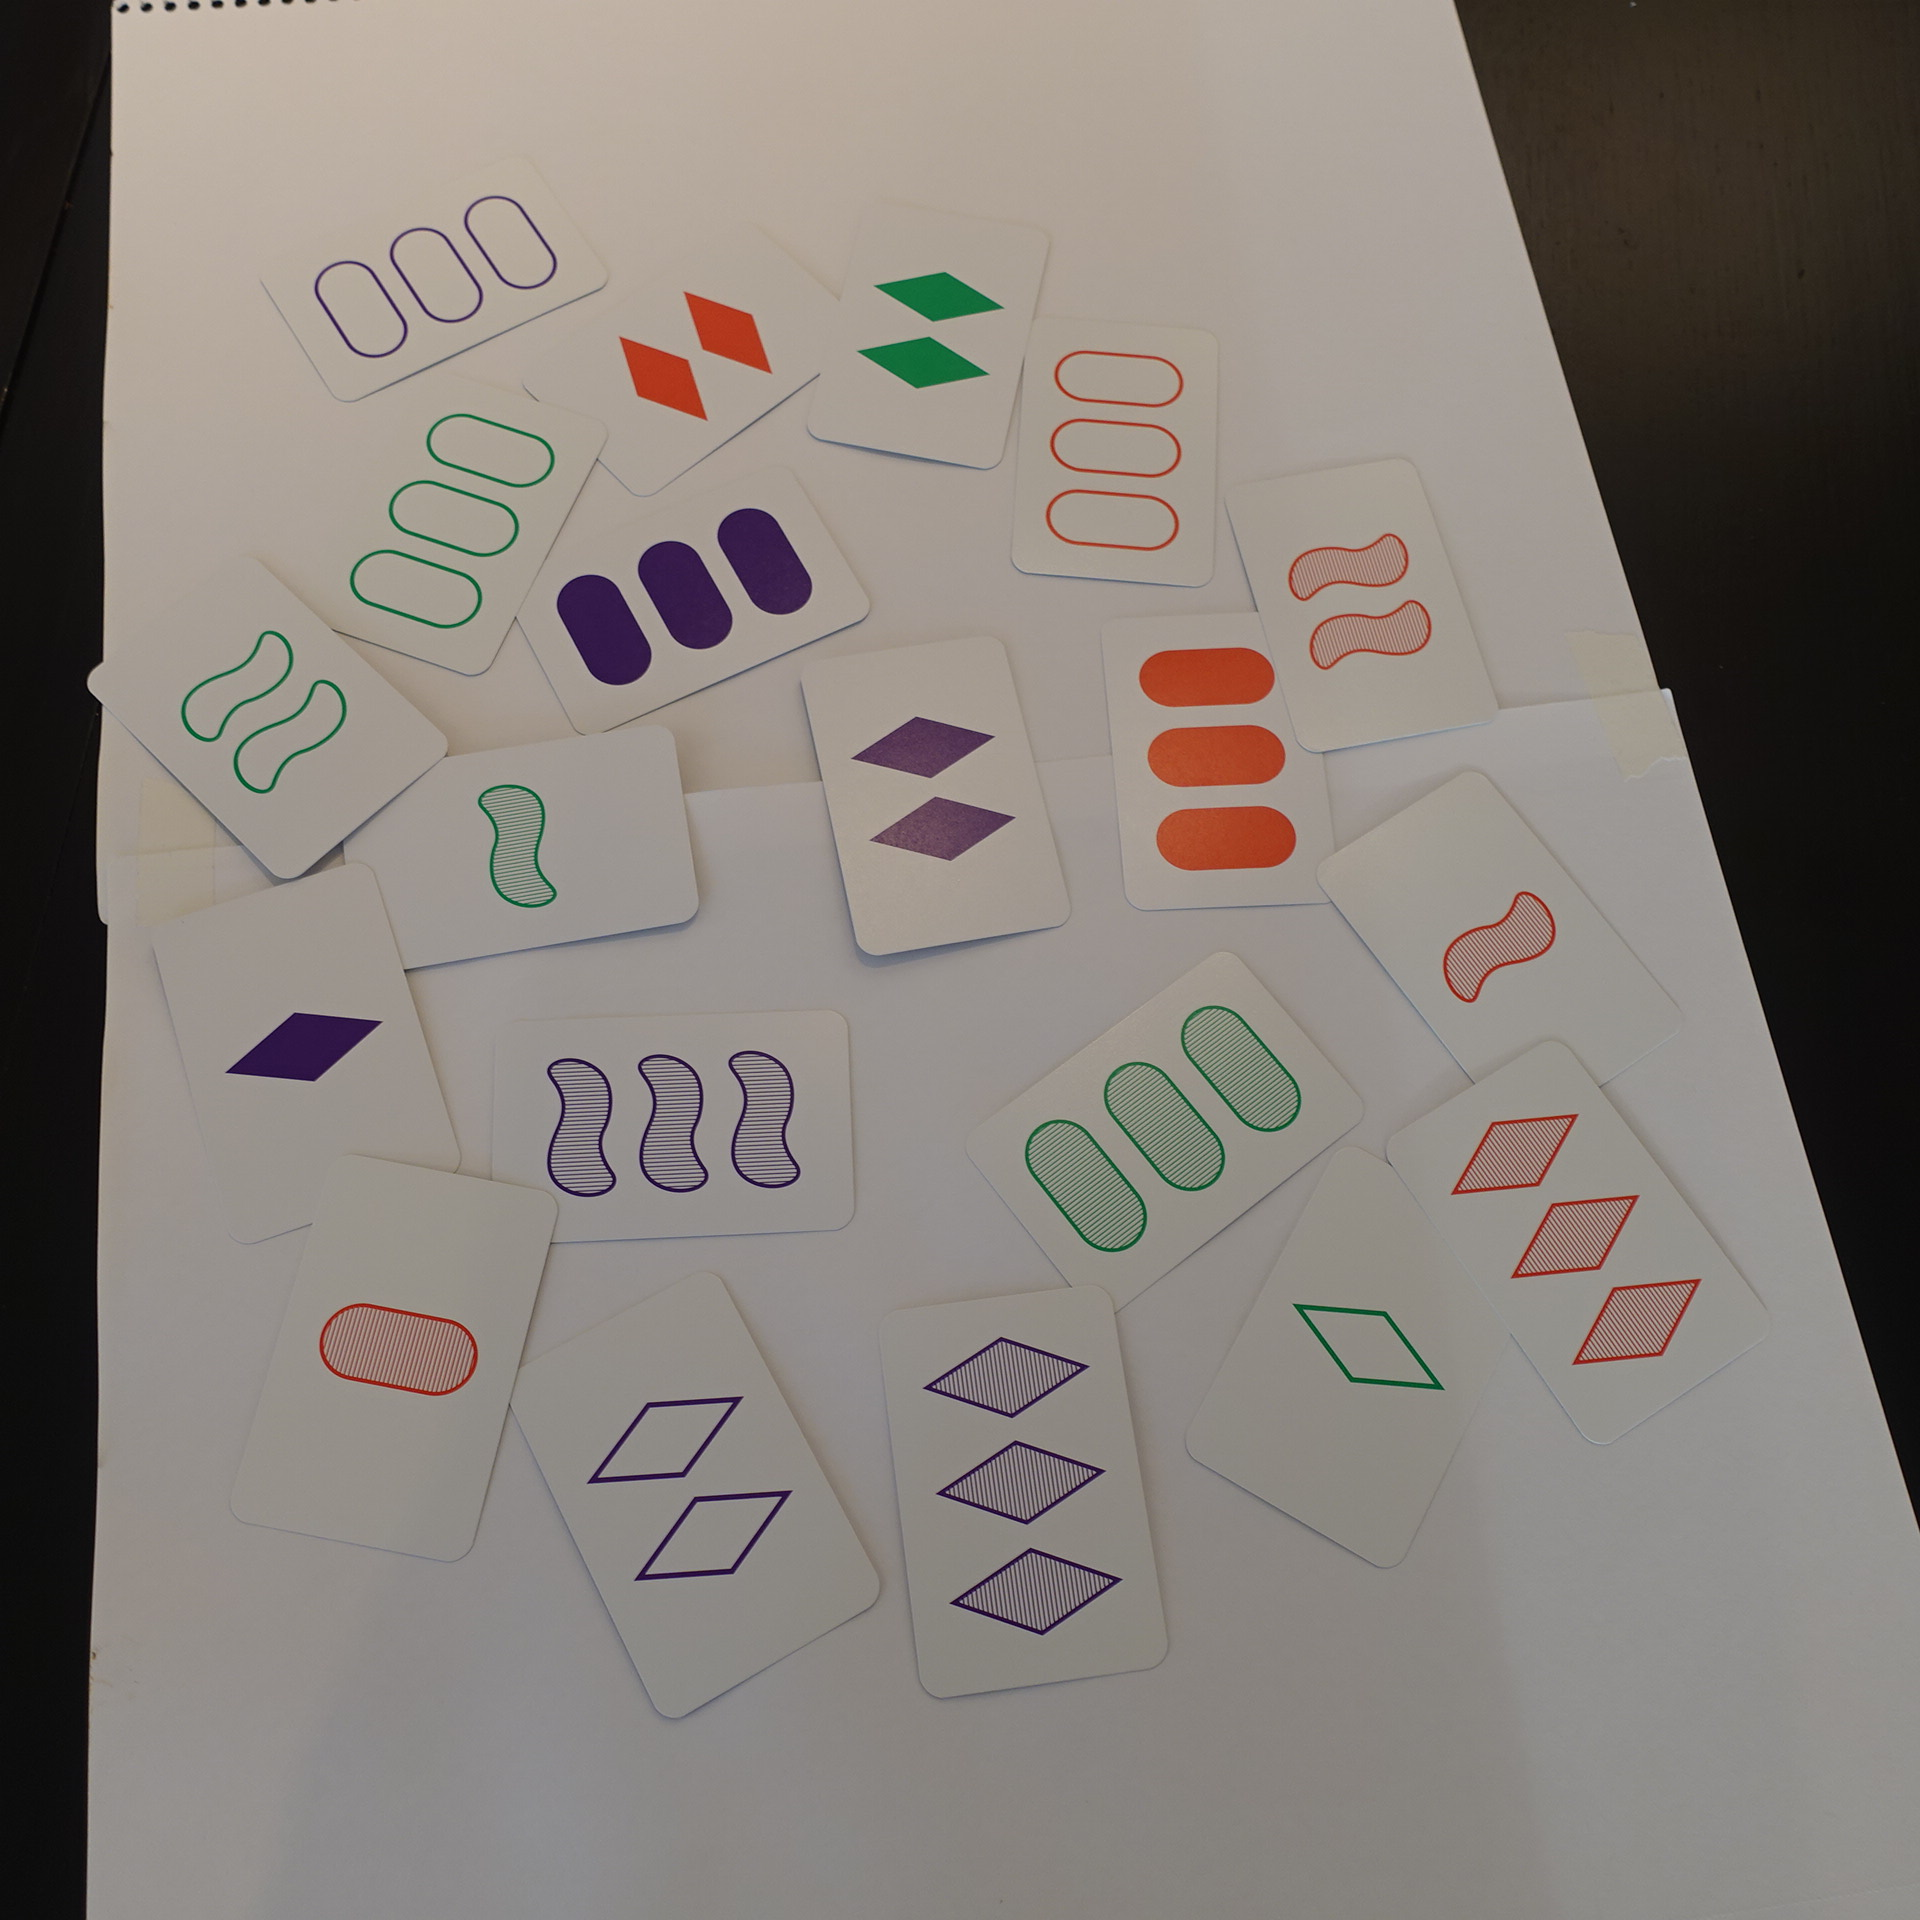c-3-f-o-g: (496, 1264, 893, 1727), (1378, 1029, 1785, 1458), (1173, 1138, 1547, 1579), (955, 937, 1370, 1329), (223, 1139, 570, 1579), (1308, 758, 1691, 1125), (858, 1278, 1180, 1705), (132, 855, 475, 1255), (81, 547, 457, 890), (503, 464, 881, 745), (325, 714, 709, 988), (515, 213, 870, 506), (791, 628, 1083, 969), (473, 999, 867, 1250), (250, 146, 617, 411), (302, 375, 615, 686), (1211, 447, 1509, 760), (1099, 598, 1342, 920), (805, 188, 1062, 478), (1006, 297, 1236, 605)
